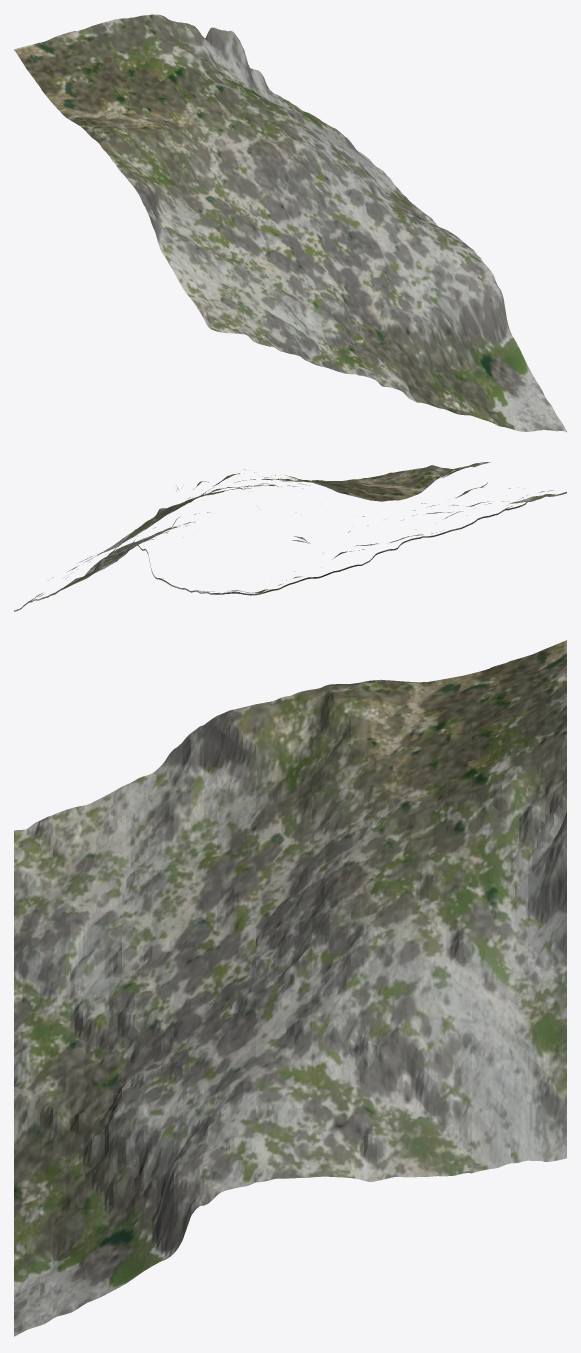
3 renders of one model, top to bottom at view 1: azimuth 30°, elevation 25°; view 2: azimuth 150°, elevation 25°; view 3: azimuth 270°, elevation 25°, orthographic. The views are drawn at different scales.
Bounding box in the file's own units: 250 × 222 × 241.
1 material, 1 textured.
